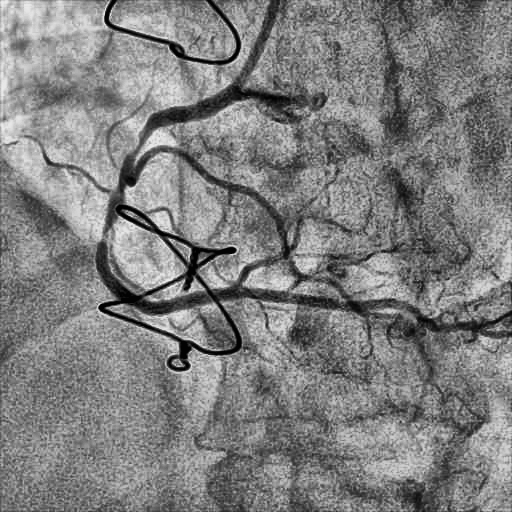pborca: (237, 214, 343, 285)
pda: (234, 286, 478, 332)
rca: (96, 84, 241, 314)
